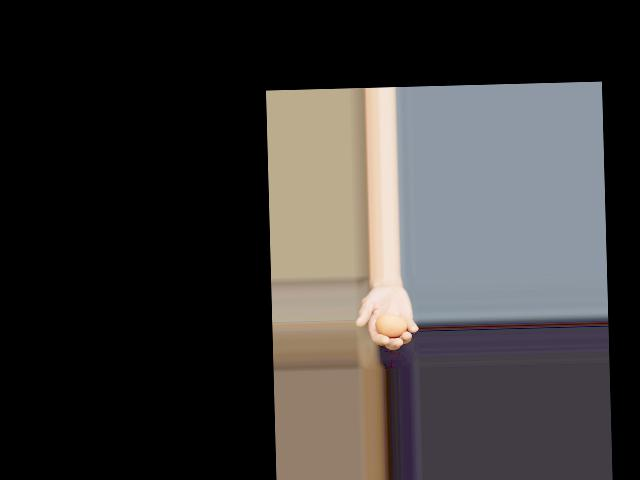egg: (375, 313, 408, 336)
